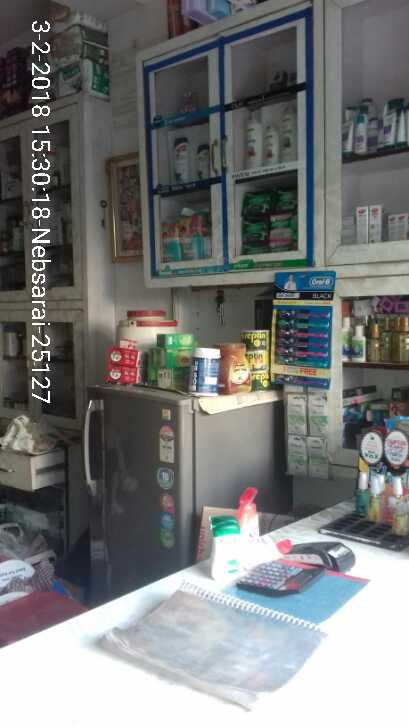oralcare: (270, 266, 335, 392)
vicks: (172, 85, 201, 117)
